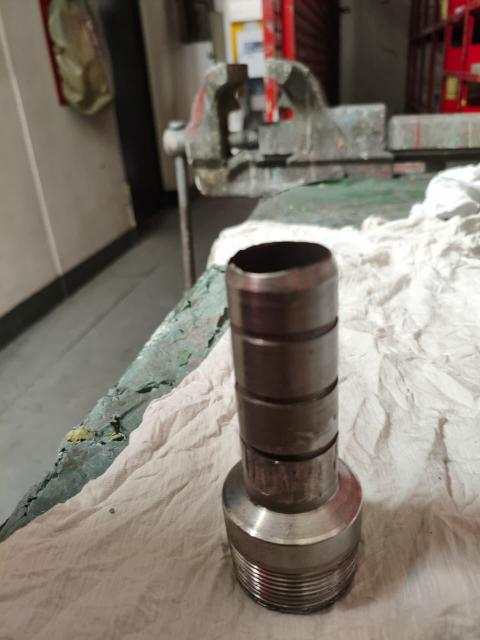Metal: (202, 235, 373, 617)
